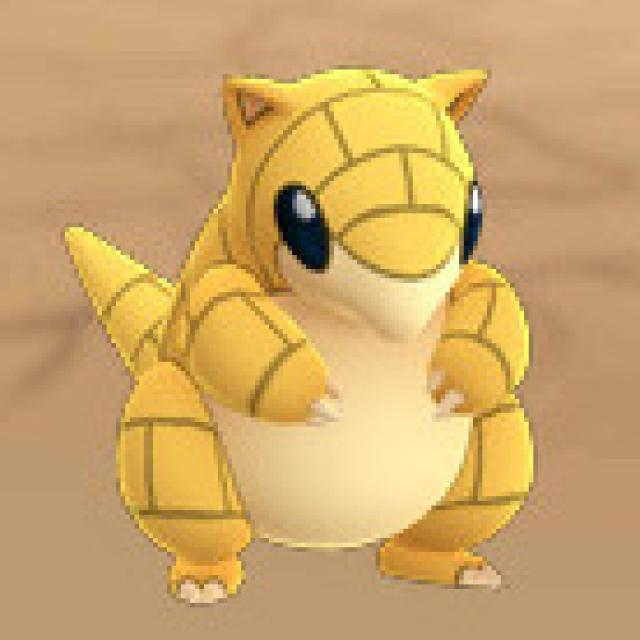Sandshrew: (112, 61, 526, 596)
